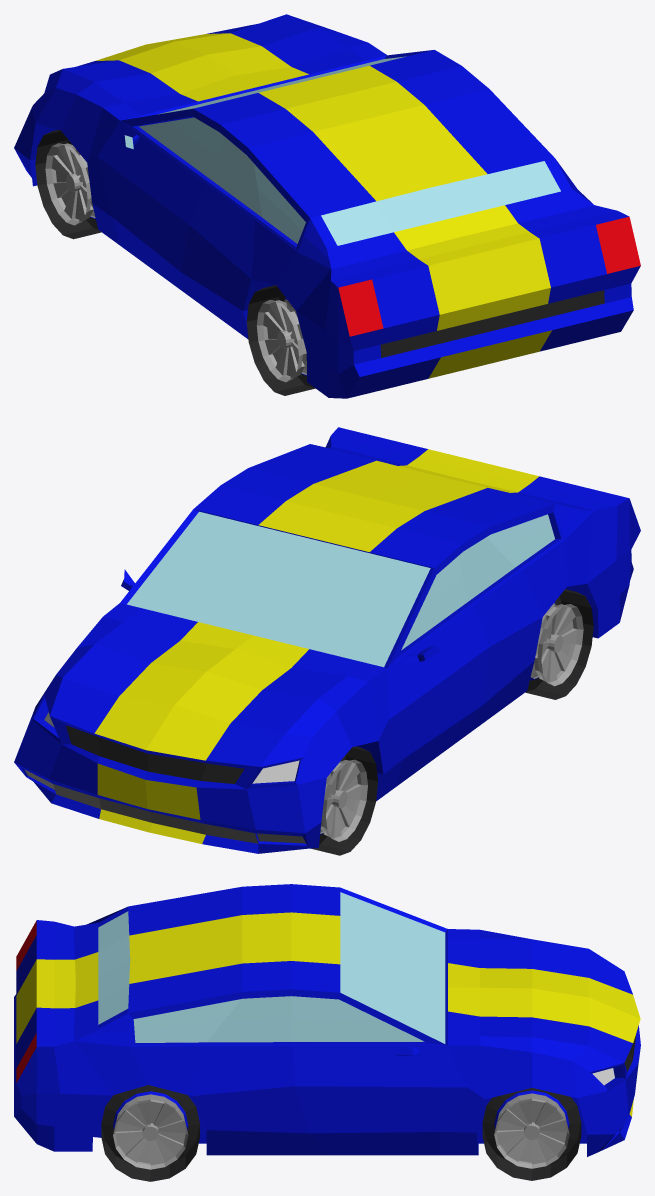
File: car1.fbx
3 views of the same model, one above another, from view 1: azimuth 30°, elevation 25°; view 2: azimuth 150°, elevation 25°; view 3: azimuth 270°, elevation 25° (orthographic). The views are drawn at different scales.
Visible parts, largest first — view 1: Cube; view 2: Cube; view 3: Cube.
Part boxes in pixels (bbox=[...]): Cube: bbox=[14, 14, 640, 398]; Cube: bbox=[14, 427, 640, 855]; Cube: bbox=[14, 884, 640, 1181].
Size of the model in its own units: 225 by 139 by 434.
